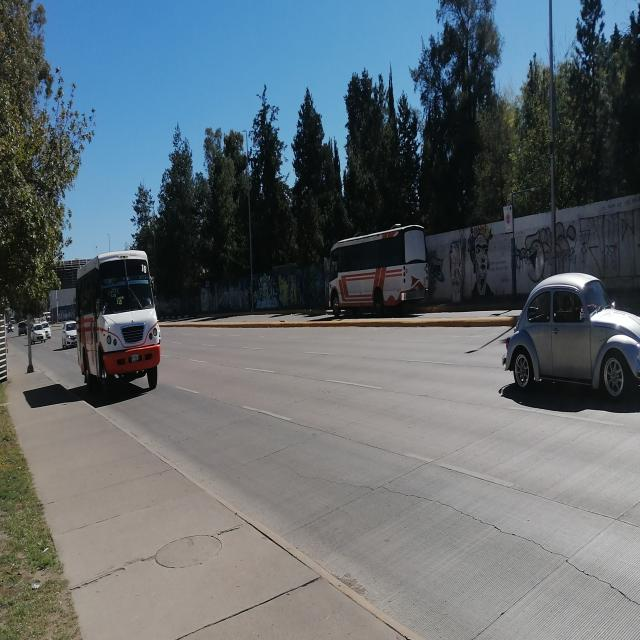Auto: (500, 270, 640, 411)
Autobus: (77, 248, 161, 394), (328, 219, 428, 324)
